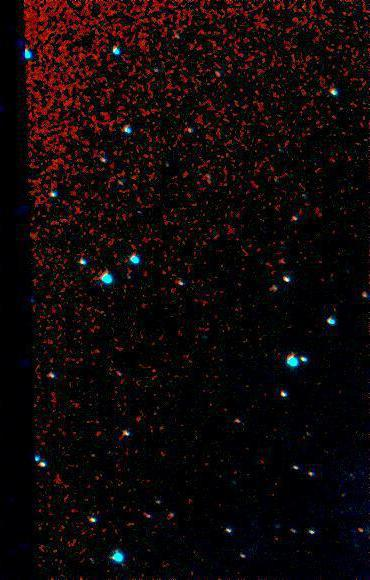star: (343, 517, 370, 547)
